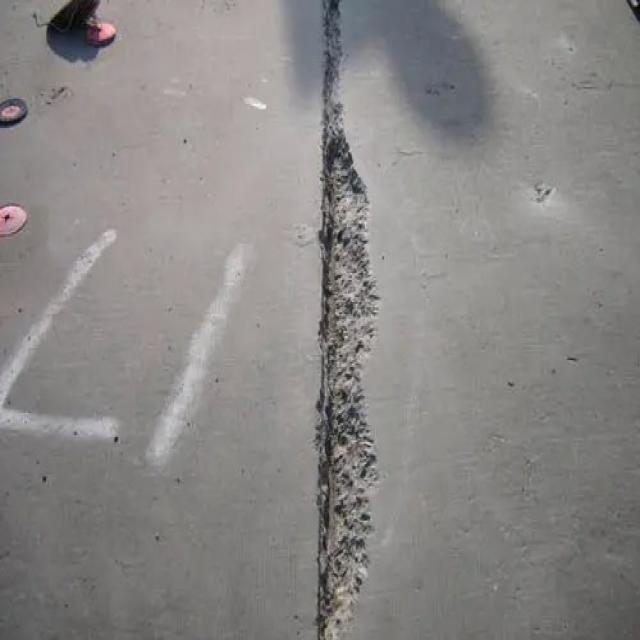Pothole: (311, 2, 383, 638)
